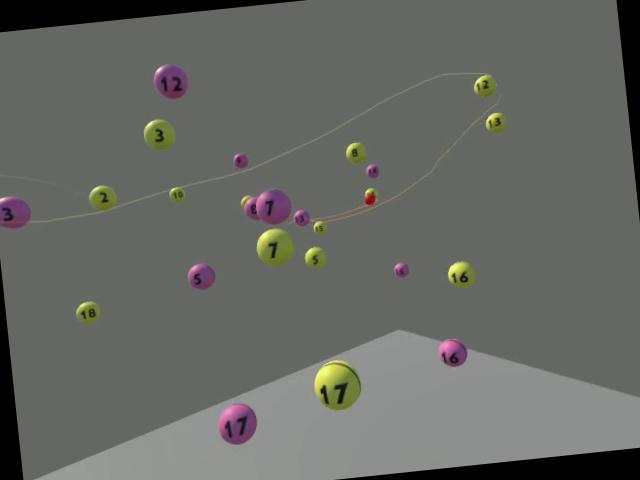ball_02_yellow: (88, 184, 118, 212)
ball_03_pink: (0, 193, 32, 229)
ball_03_yellow: (142, 116, 176, 152)
ball_05_pink: (186, 261, 216, 290)
ball_05_yellow: (303, 246, 328, 270)
ball_07_pink: (253, 186, 292, 226)
ball_07_yellow: (253, 226, 296, 267)
ball_08_pink: (242, 196, 260, 221)
ball_08_yellow: (344, 140, 367, 164)
ball_09_pink: (231, 152, 248, 168)
ball_10_yellow: (168, 186, 186, 204)
ball_12_pink: (152, 62, 190, 100)
ball_12_yellow: (472, 74, 498, 98)
ball_13_pink: (292, 208, 310, 227)
ball_13_yellow: (484, 110, 508, 134)
ball_14_pink: (364, 162, 380, 178)
ball_15_pink: (393, 261, 409, 277)
ball_15_yellow: (312, 221, 328, 236)
ball_16_pink: (436, 336, 469, 369)
ball_16_yellow: (446, 259, 477, 290)
ball_17_pink: (216, 400, 258, 446)
ball_17_yellow: (311, 358, 363, 412)
ball_18_yellow: (75, 300, 102, 323)
ball_unknown: (364, 187, 378, 198), (240, 195, 251, 208)
user_cursor: (362, 192, 377, 206)
